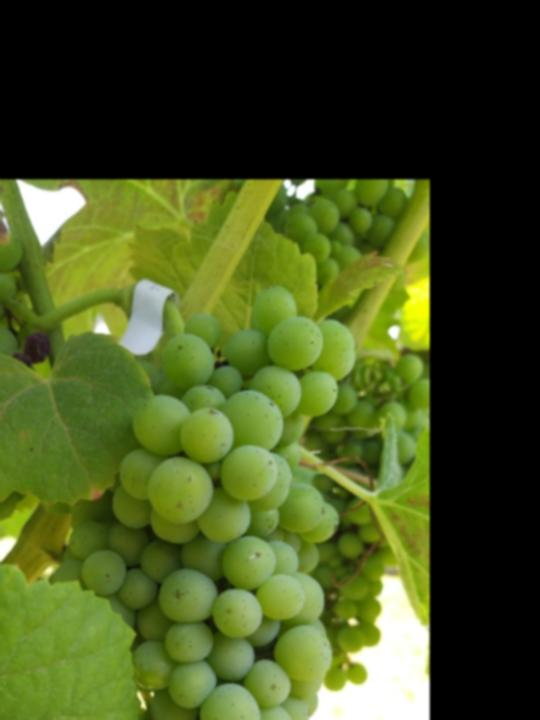grape: (42, 282, 359, 720)
